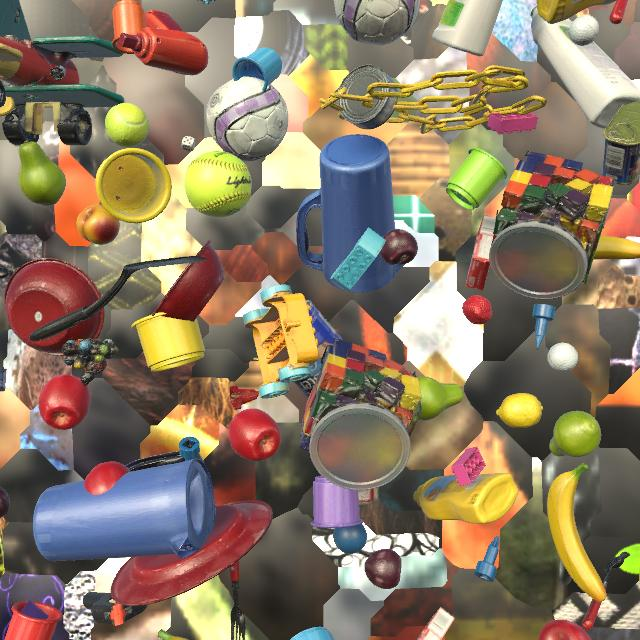ycb_002_master_chef_can: (261, 300, 344, 398)
ycb_005_tomato_soup_can: (358, 487, 379, 505)
ycb_006_mustard_bottle: (413, 473, 518, 524), (537, 0, 617, 24)
ycb_007_tuna_fish_can: (337, 65, 398, 129), (0, 368, 7, 391)
ycb_009_gelatin_box: (466, 215, 496, 291), (417, 607, 455, 640)
ycb_010_potted_meat_can: (602, 100, 640, 185)
ycb_011_banana: (547, 463, 607, 602), (593, 235, 640, 260), (157, 629, 188, 640)
ycb_012_strawberry: (462, 295, 492, 325)
ycb_013_apple: (38, 374, 91, 430), (228, 408, 281, 461), (84, 461, 131, 495), (538, 620, 592, 640)
ycb_014_lemon: (496, 393, 543, 428)
ycb_015_peach: (77, 205, 120, 245)
ycb_016_pear: (18, 141, 66, 206), (549, 411, 601, 457), (417, 376, 464, 421)
ycb_018_plum: (364, 549, 402, 589), (380, 229, 418, 265), (0, 487, 10, 518)
